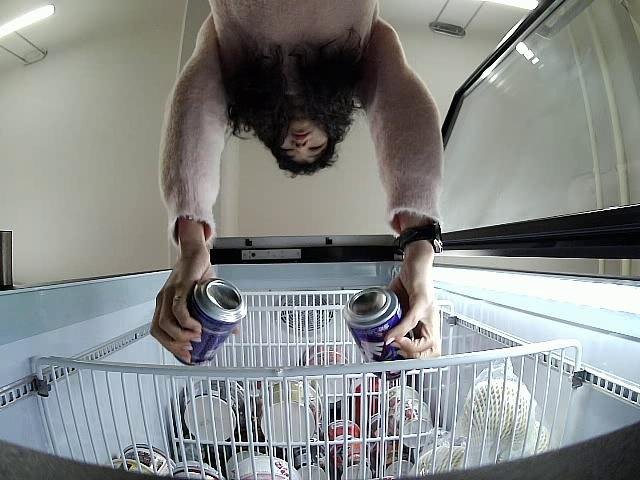00_hand: (151, 257, 219, 367), (387, 269, 441, 357)
14_welchsGrape: (343, 285, 419, 379), (171, 277, 248, 365)
